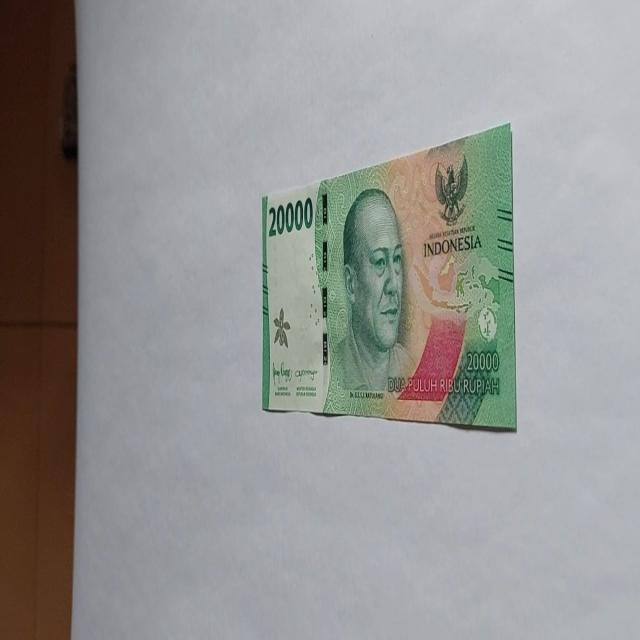dua puluh ribu rupiah: (260, 121, 516, 431), (325, 185, 417, 411)
